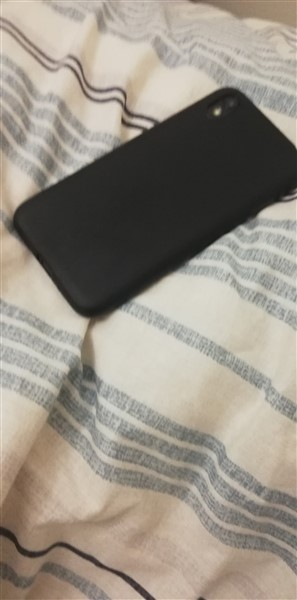telefon: (13, 81, 297, 326)
